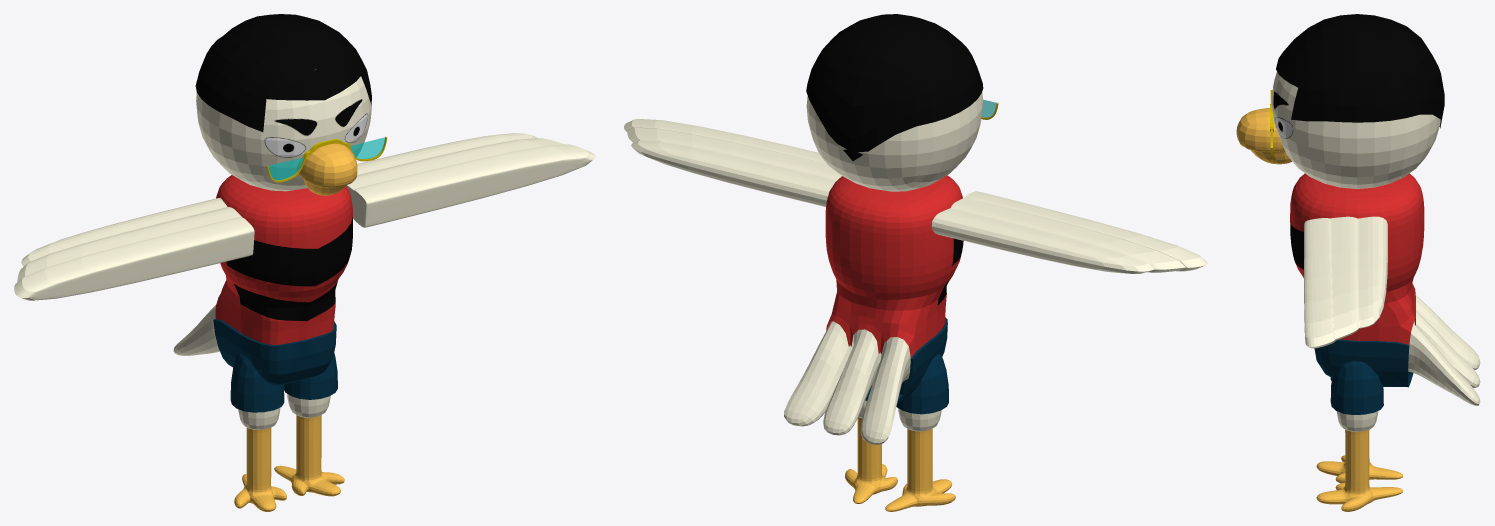
Rendered from Joaquim.fbx.
3 views of the same model, side by side, from view 1: azimuth 30°, elevation 25°; view 2: azimuth 150°, elevation 25°; view 3: azimuth 270°, elevation 25° (orthographic).
Visible parts, largest first — view 1: Cube.004, Cube.006, Cube.008, Cube, Cube.003, Cube.007, Cube.005, BezierCurve, Cube.002; view 2: Cube.004, Cube.006, Cube.008, Cube.002, Cube, Cube.003, Cube.007; view 3: Cube.008, Cube.006, Cube, Cube.004, Cube.002, Cube.003, Cube.007, Cube.005.
Part boxes in pixels (x1,y1,x2,y2): Cube.004: [14, 133, 595, 300]; Cube.006: [213, 175, 352, 385]; Cube.008: [195, 14, 371, 131]; Cube: [196, 69, 371, 191]; Cube.003: [234, 394, 344, 511]; Cube.007: [230, 353, 337, 412]; Cube.005: [296, 143, 357, 195]; BezierCurve: [266, 136, 387, 182]; Cube.002: [173, 305, 219, 355]; Cube.004: [624, 119, 1207, 273]; Cube.006: [825, 175, 963, 403]; Cube.008: [806, 14, 983, 160]; Cube.002: [784, 321, 910, 444]; Cube: [806, 92, 983, 191]; Cube.003: [845, 400, 955, 511]; Cube.007: [865, 354, 948, 414]; Cube.008: [1276, 14, 1444, 128]; Cube.006: [1290, 173, 1424, 387]; Cube: [1271, 72, 1440, 188]; Cube.004: [1304, 216, 1387, 348]; Cube.002: [1408, 295, 1480, 405]; Cube.003: [1316, 411, 1403, 511]; Cube.007: [1330, 361, 1383, 414]; Cube.005: [1236, 108, 1291, 164].
Size of the model in its own units: 171 by 133 by 62.92.
3 materials, 1 textured.
